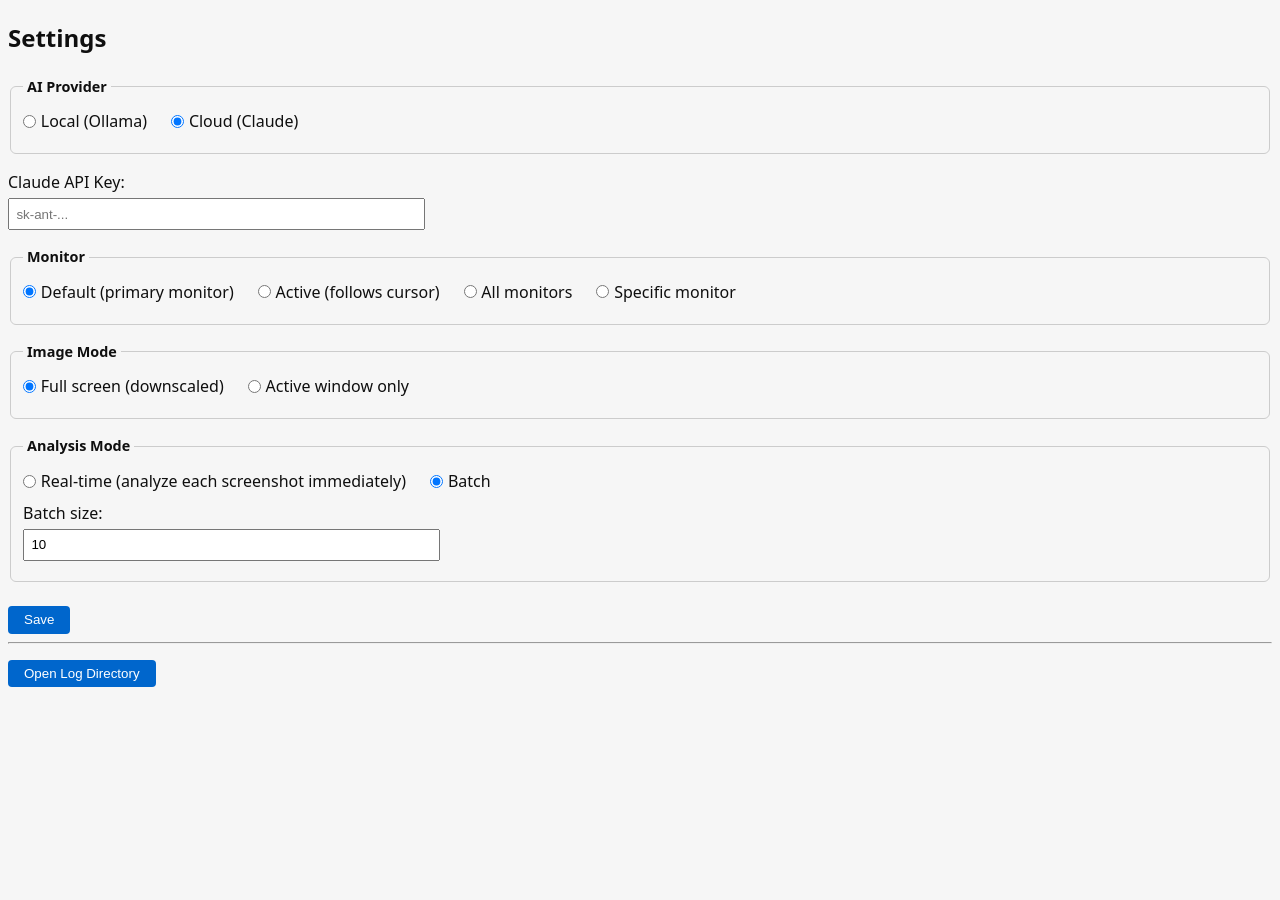
Settings › shows saved message after save
This screenshot has width=1280, height=900.
Type "sk-ant-new-key" into the password field with placeholder "sk-ant-...".
click(216, 214); type("sk-ant-new-key")  # box [8,198,425,230]
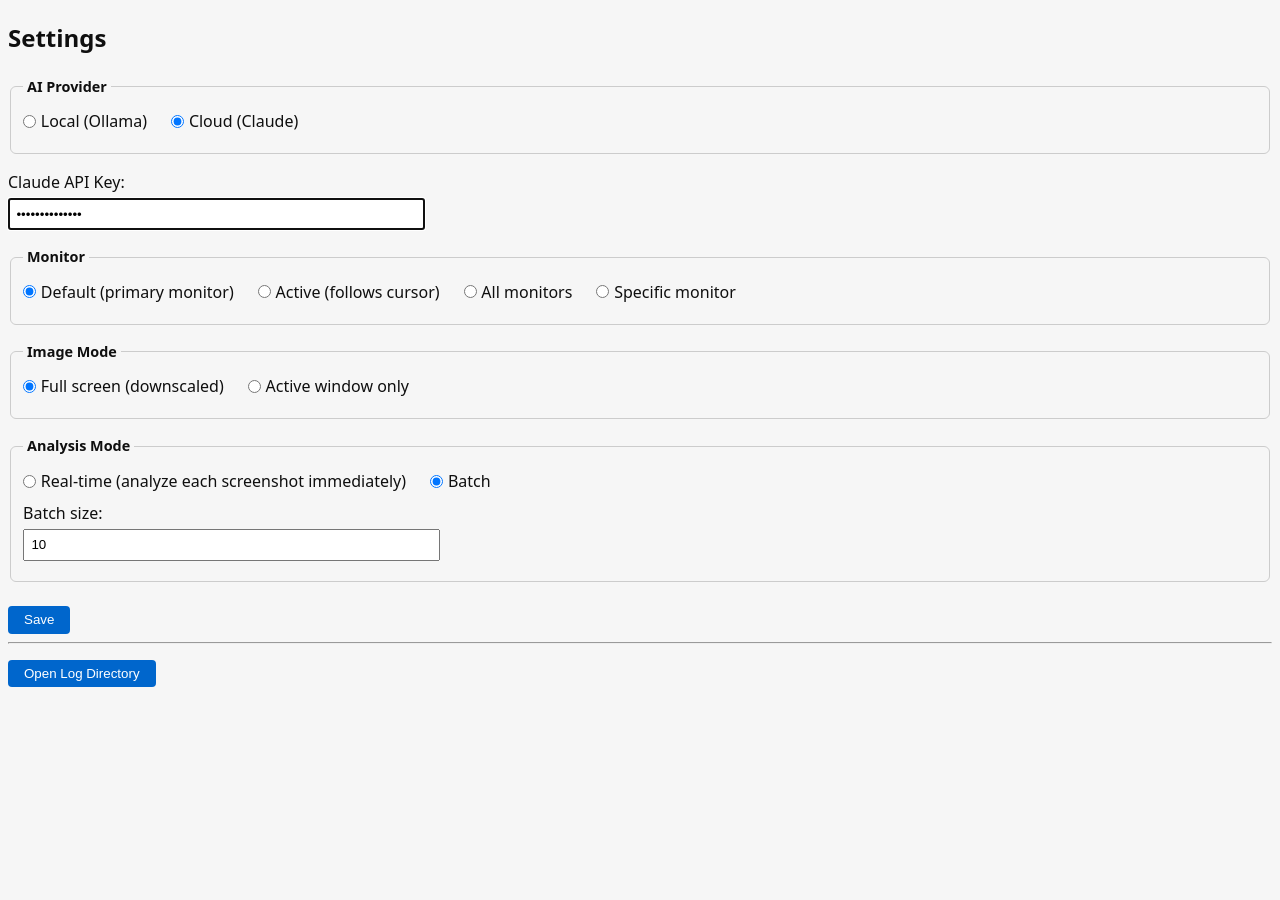
Click the button "Save".
click(39, 620)  # box [8,606,70,634]
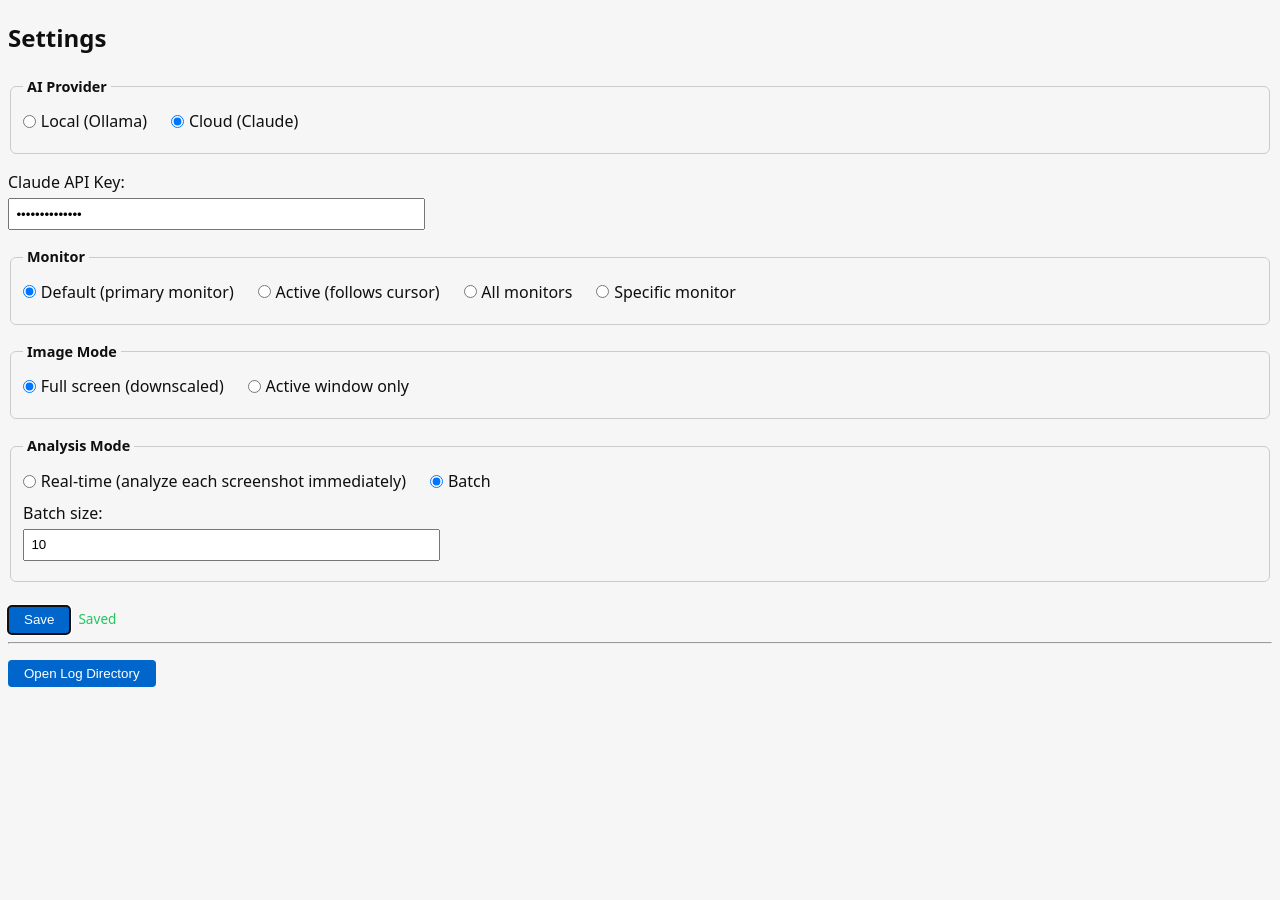
Expected: the text "Saved" is shown, [78,609,116,628]
